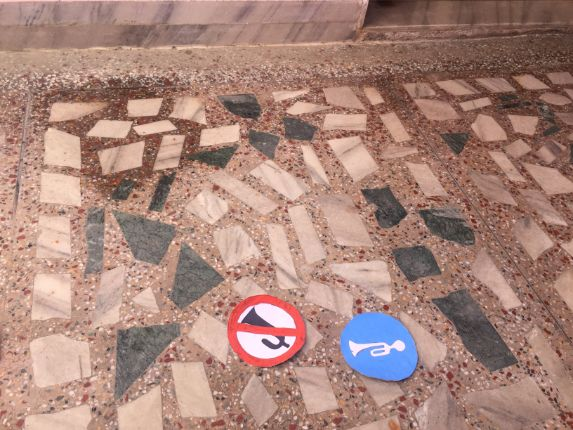blow-horn: (339, 312, 418, 382)
no-horn: (227, 295, 308, 366)
